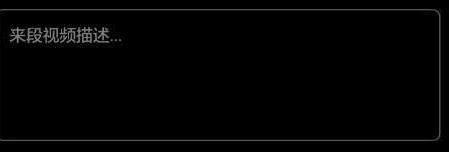EditText: (1, 1, 448, 151)
